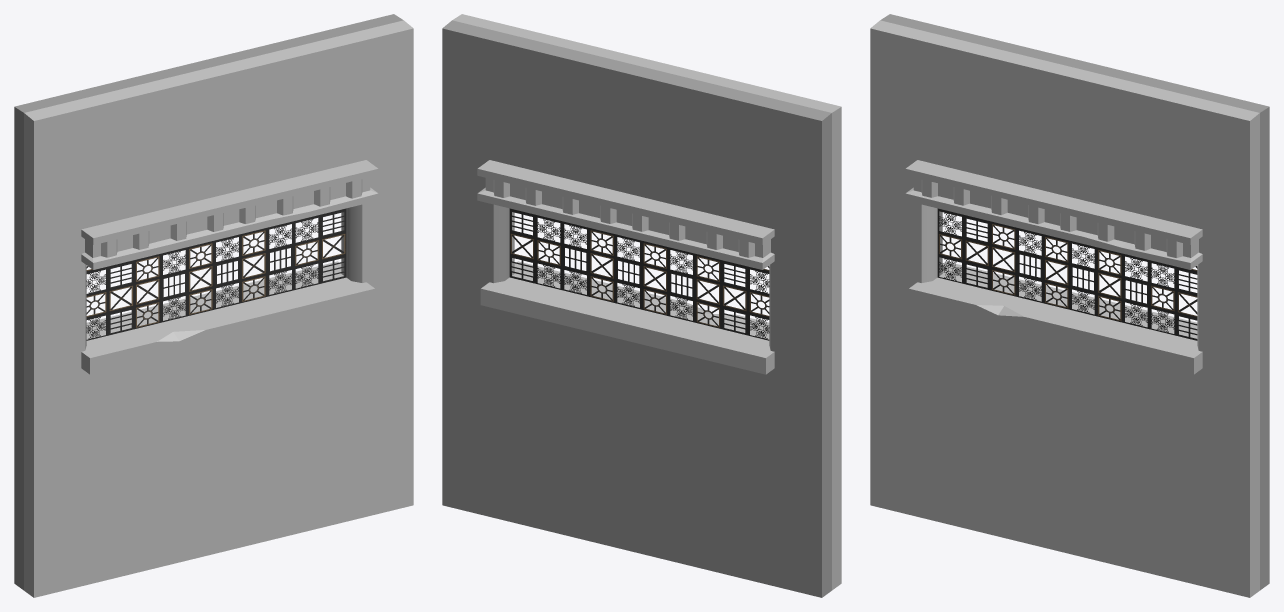
Rendered from SM_Bld_Wall_Window_04.fbx.
The picture shows the model from 3 angles, left to right: view 1: azimuth 30°, elevation 25°; view 2: azimuth 150°, elevation 25°; view 3: azimuth 330°, elevation 25°; orthographic projection.
Visible parts, largest first — view 1: SM_Bld_Wall_Window_04; view 2: SM_Bld_Wall_Window_04; view 3: SM_Bld_Wall_Window_04.
Part boxes in pixels (x1,y1,x2,y2): SM_Bld_Wall_Window_04: (14, 14, 413, 597); SM_Bld_Wall_Window_04: (442, 14, 841, 597); SM_Bld_Wall_Window_04: (870, 14, 1269, 597).
Size of the model in its own units: 250 by 301 by 50.07.
